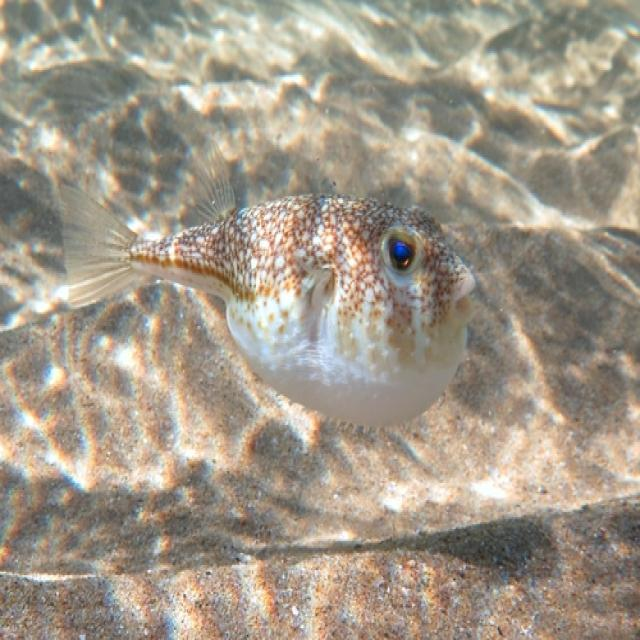Balik: (62, 142, 474, 424)
